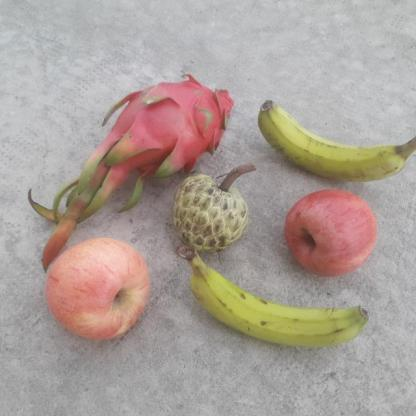annona: (174, 170, 247, 253)
apple: (47, 236, 160, 342), (285, 190, 378, 274)
banana: (176, 246, 373, 346), (256, 92, 408, 182)
pitaya: (97, 77, 238, 169)
